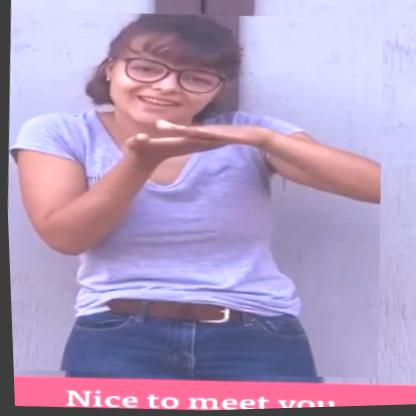NiceToMeetYou: (0, 1, 392, 388)
